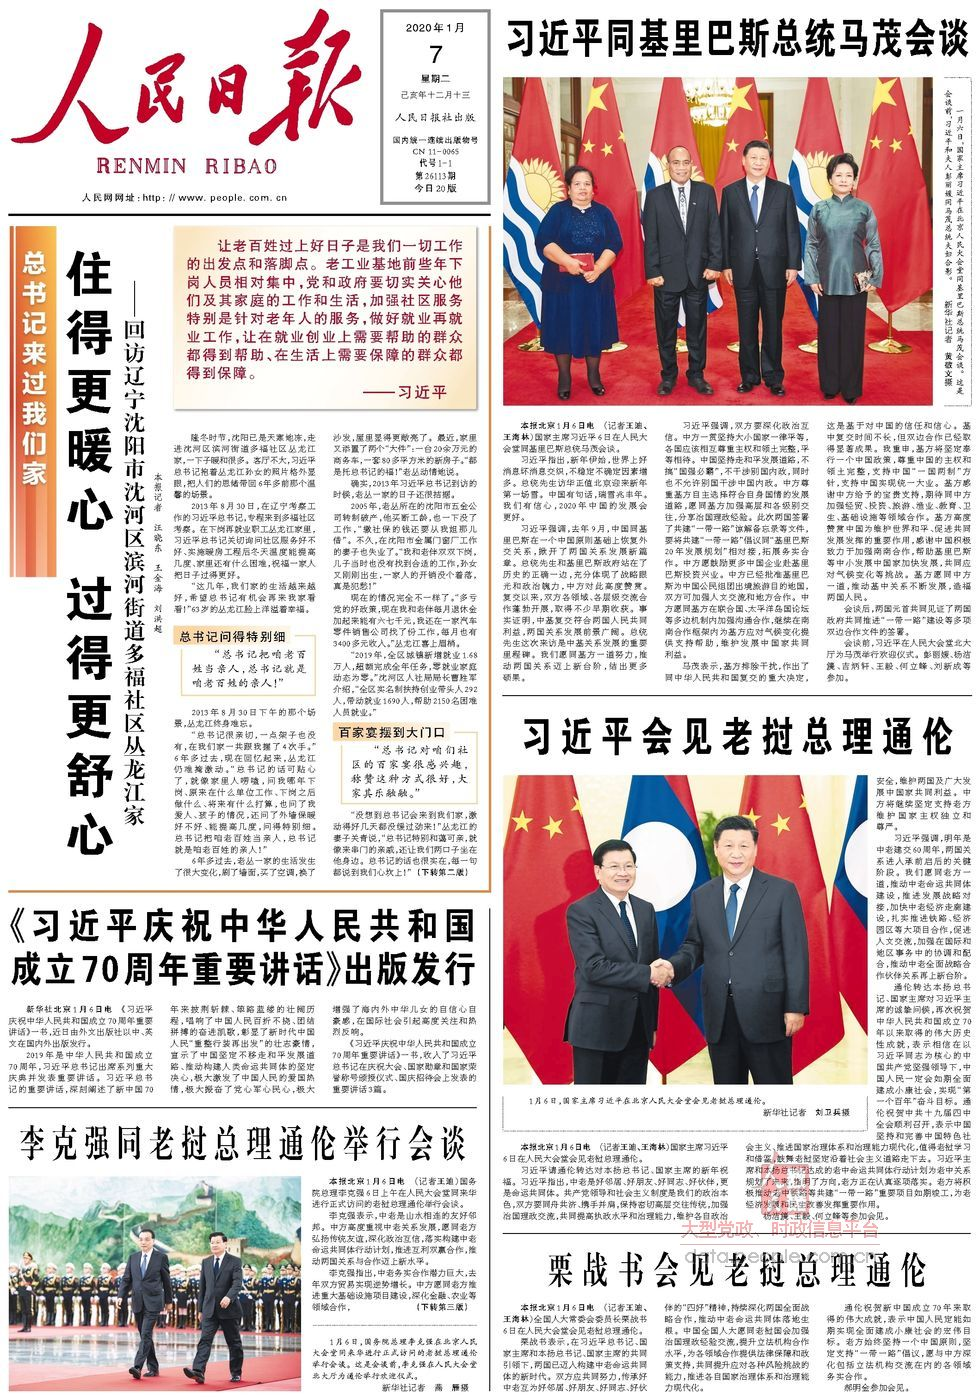pic: (497, 70, 937, 409), (497, 769, 873, 1088), (5, 1170, 305, 1398)
